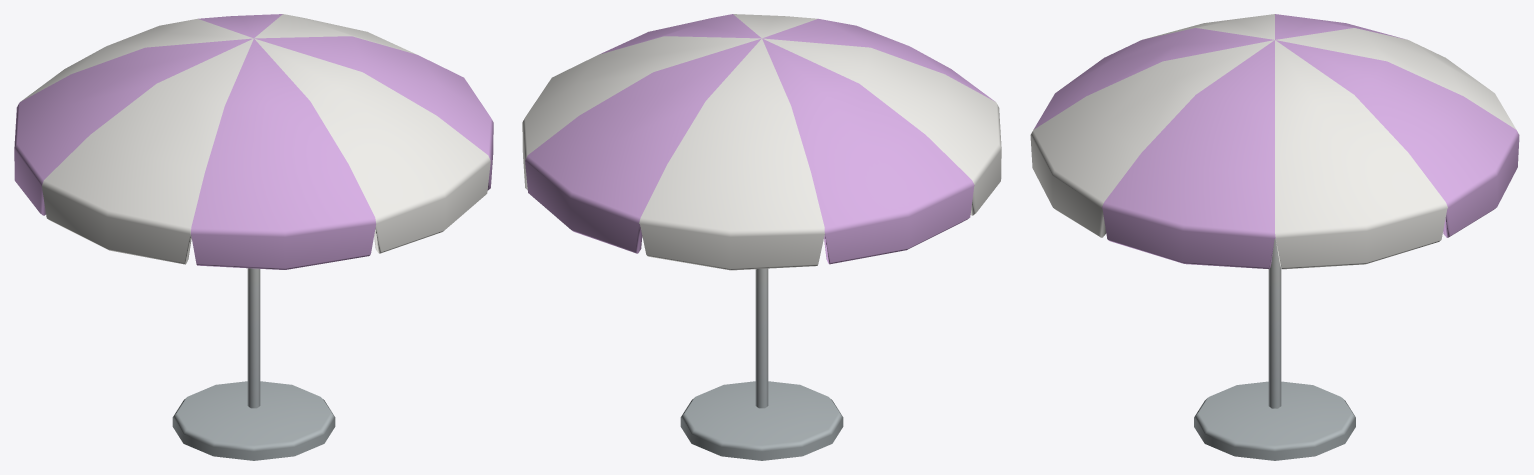
Rendered from Umbrella_Purple.fbx.
3 renders of one model, left to right at view 1: azimuth 30°, elevation 25°; view 2: azimuth 150°, elevation 25°; view 3: azimuth 270°, elevation 25°, orthographic.
Visible parts, largest first — view 1: Umbrella_Purple; view 2: Umbrella_Purple; view 3: Umbrella_Purple.
Boxes of the visible parts, x1,y1,x2,y2 form: Umbrella_Purple: (14,14,493,460); Umbrella_Purple: (522,14,1001,460); Umbrella_Purple: (1030,14,1519,460).
Bounding box in the file's own units: 403 × 352 × 403.
